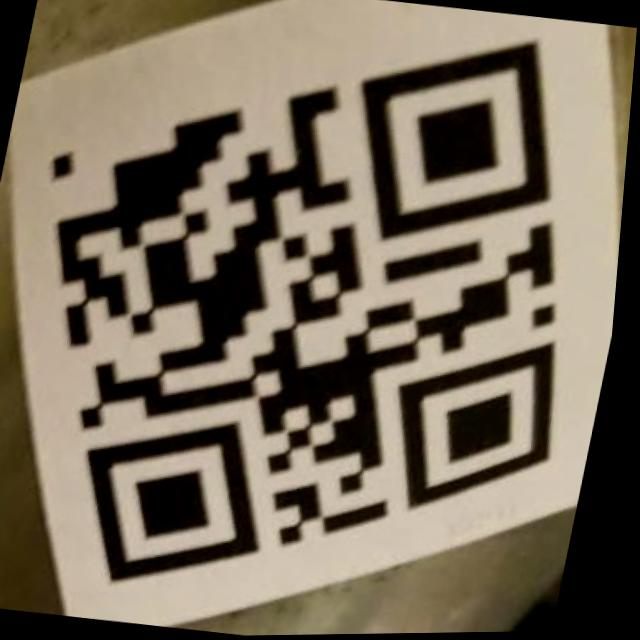QR_CODE: (0, 0, 639, 636)
